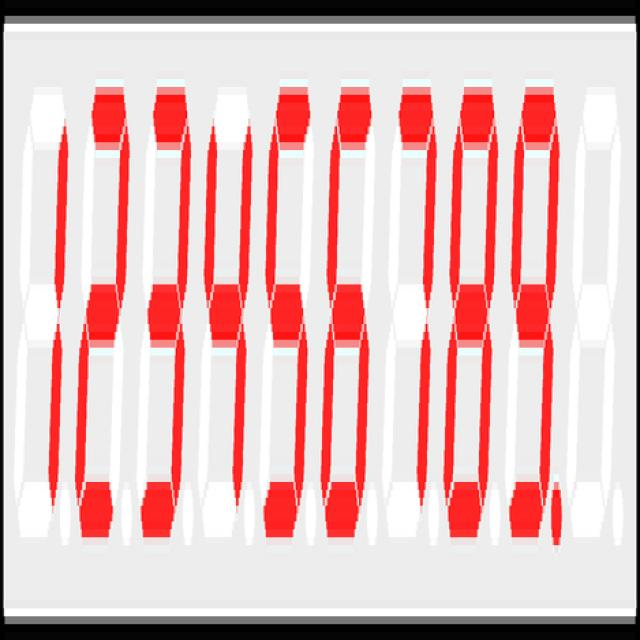.: (550, 464, 564, 556)
1: (46, 110, 70, 514)
2: (72, 81, 132, 542)
3: (138, 71, 191, 551)
4: (201, 105, 253, 524)
5: (259, 71, 311, 545)
6: (320, 69, 375, 538)
7: (396, 82, 438, 508)
8: (442, 82, 499, 545)
9: (508, 68, 560, 540)
